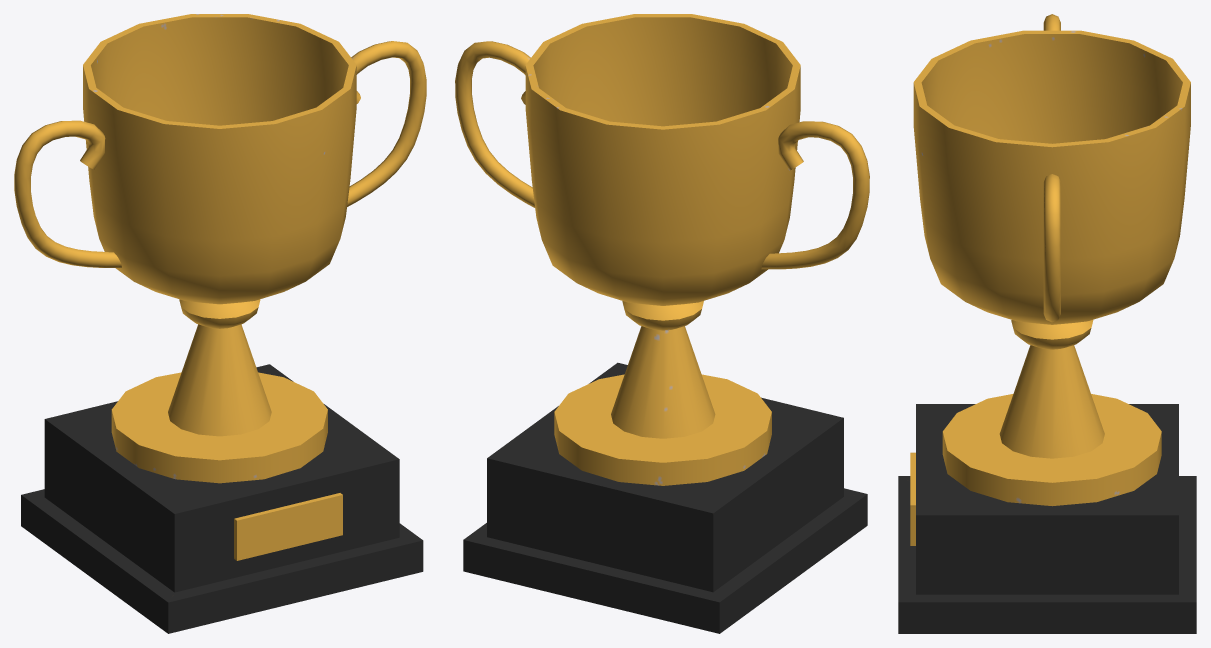
File: Trophy.gltf
3 renders of one model, left to right at view 1: azimuth 30°, elevation 25°; view 2: azimuth 150°, elevation 25°; view 3: azimuth 270°, elevation 25°, orthographic.
Parts seen in each view (by area): view 1: Trophy; view 2: Trophy; view 3: Trophy.
Boxes of the visible parts, x1=… form: Trophy: x1=14, y1=14, x2=426, y2=633; Trophy: x1=455, y1=14, x2=869, y2=633; Trophy: x1=898, y1=14, x2=1196, y2=633.
Bounding box in the file's own units: 0.9033 × 1 × 0.5608.
1 material, 1 textured.
